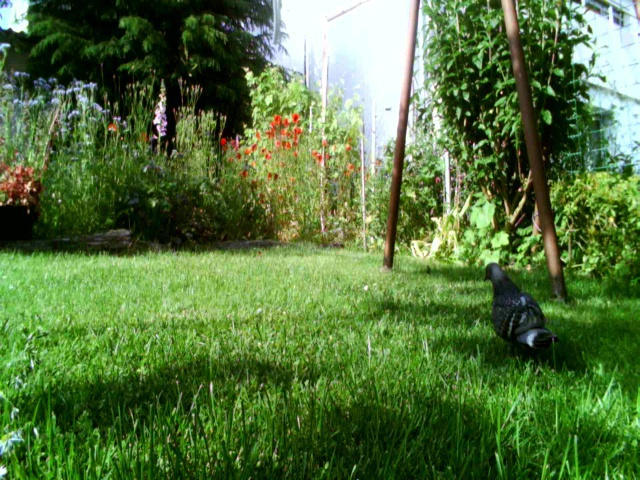Pigeon: (470, 255, 567, 366)
